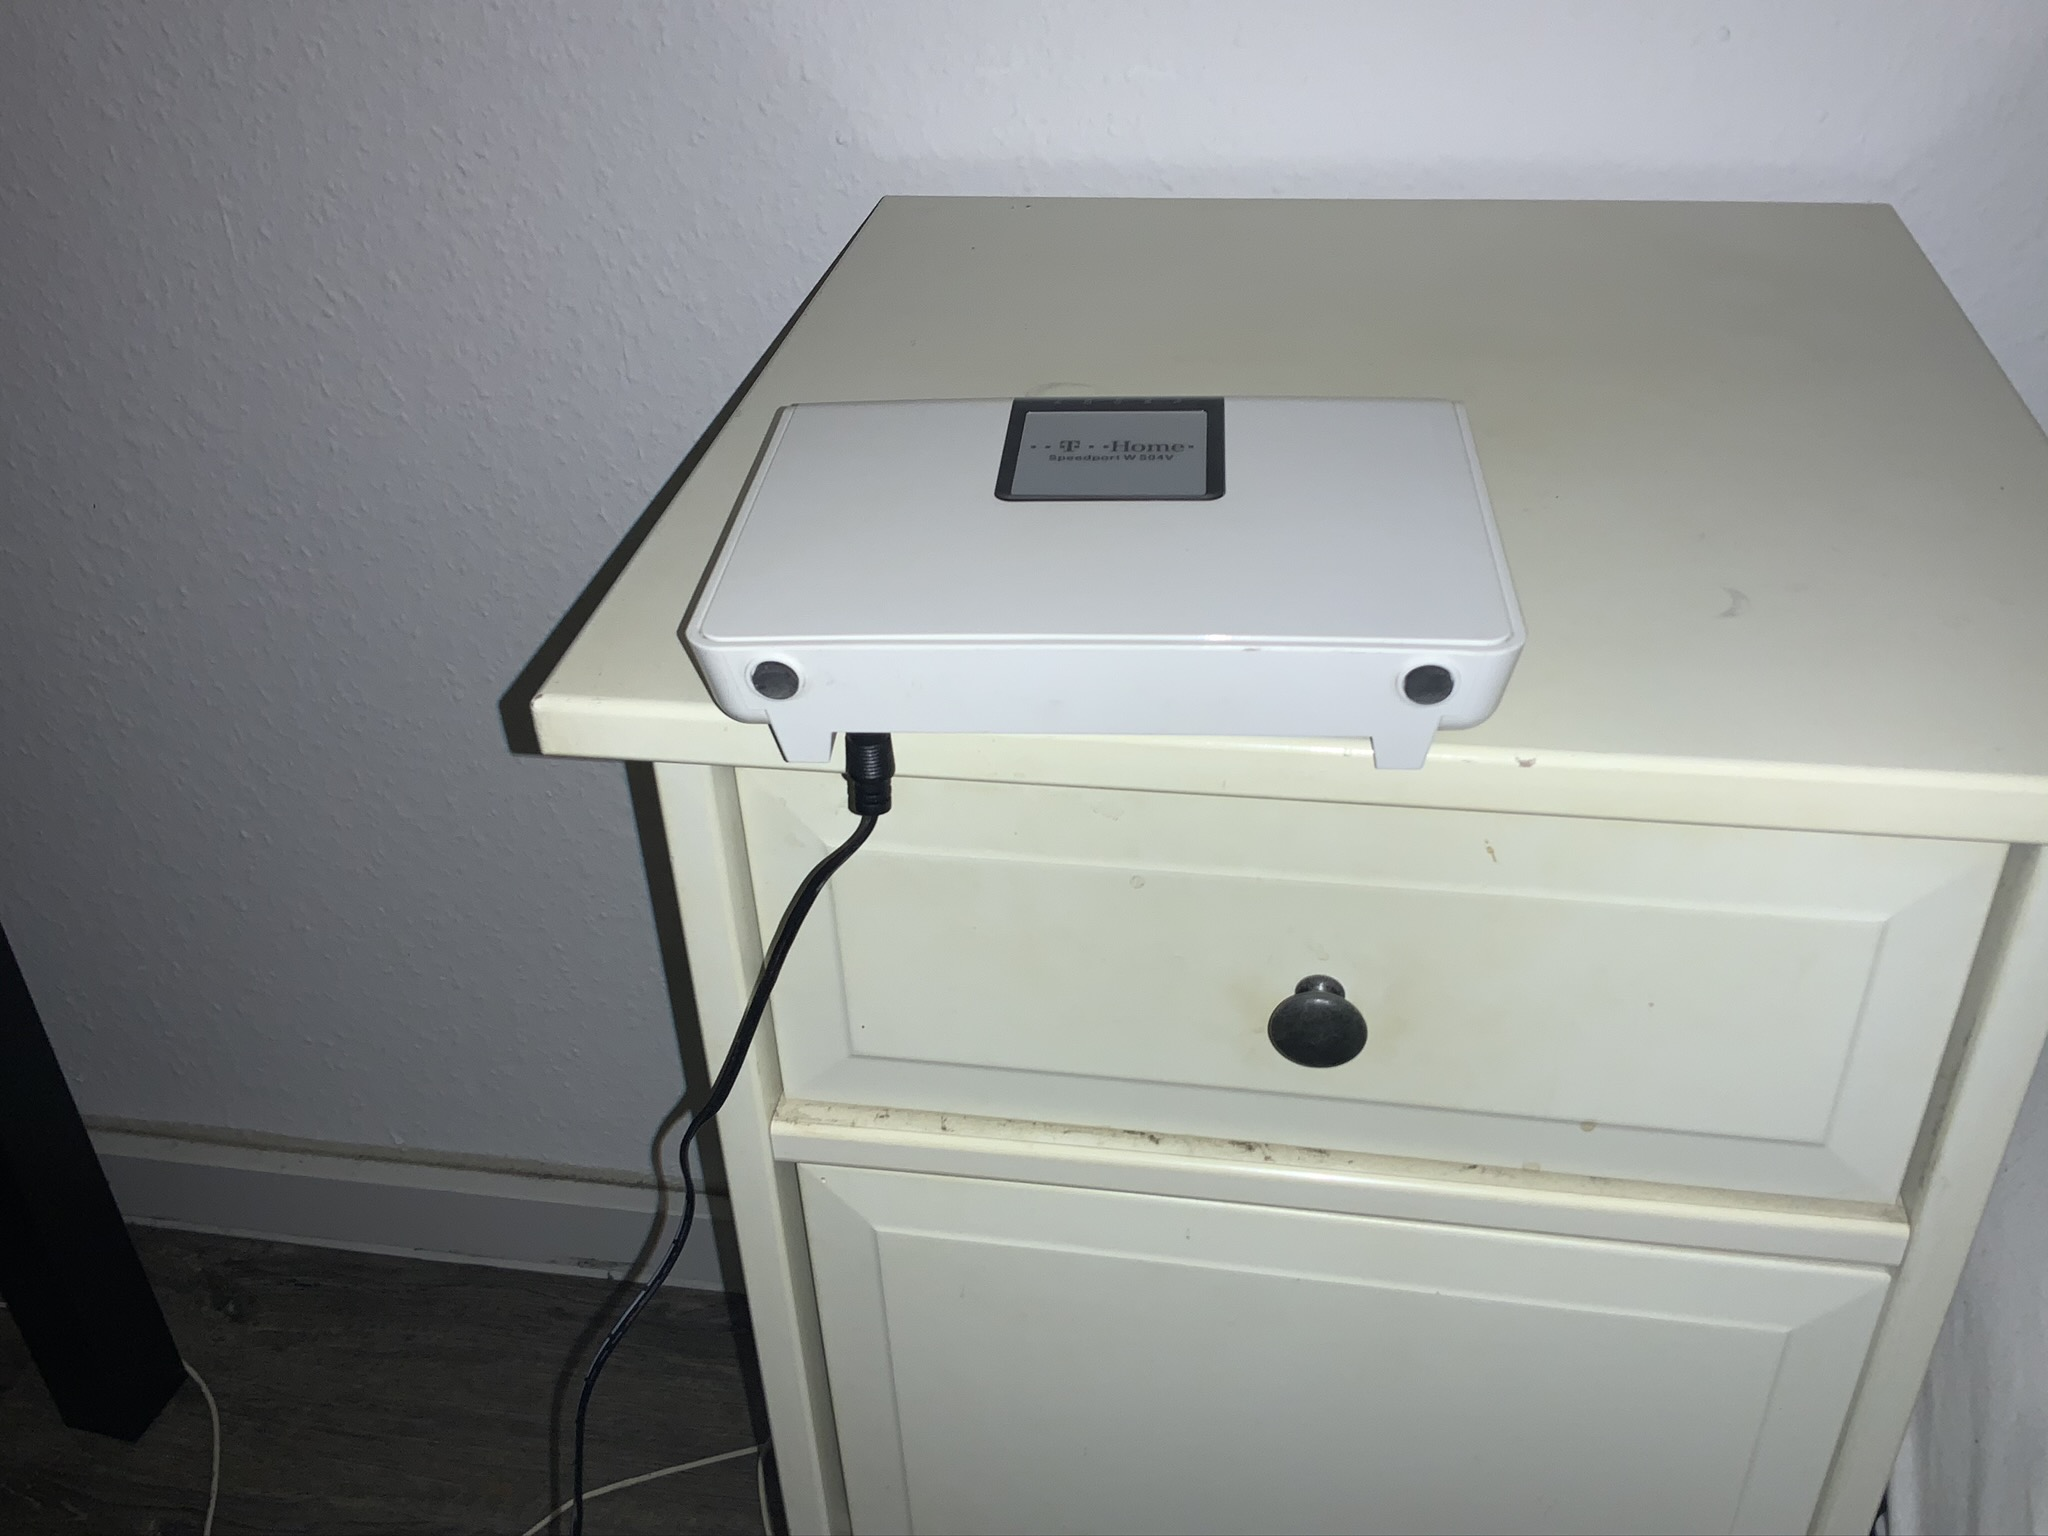Router2: (676, 378, 1532, 774)
